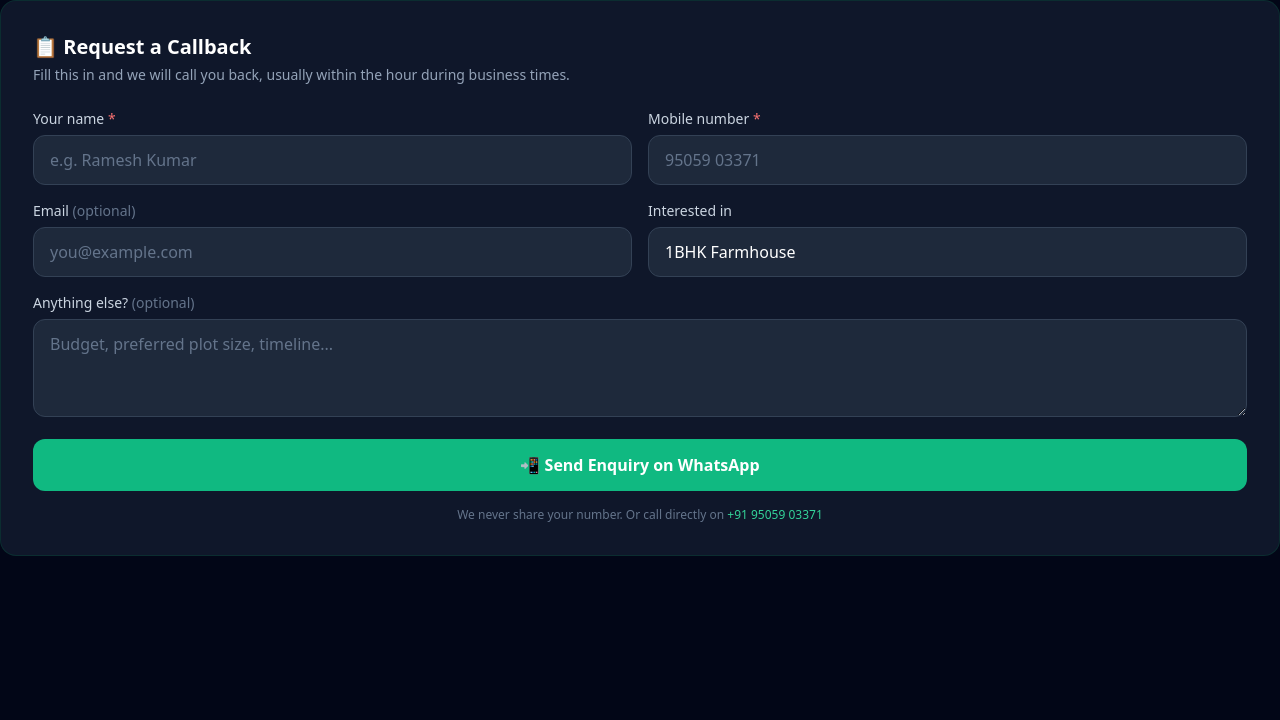
LeadForm › rejects a malformed phone number
In the field labelled "Your name *": (332, 160) top-left (33, 135), bottom-right (632, 185), type "Ramesh"
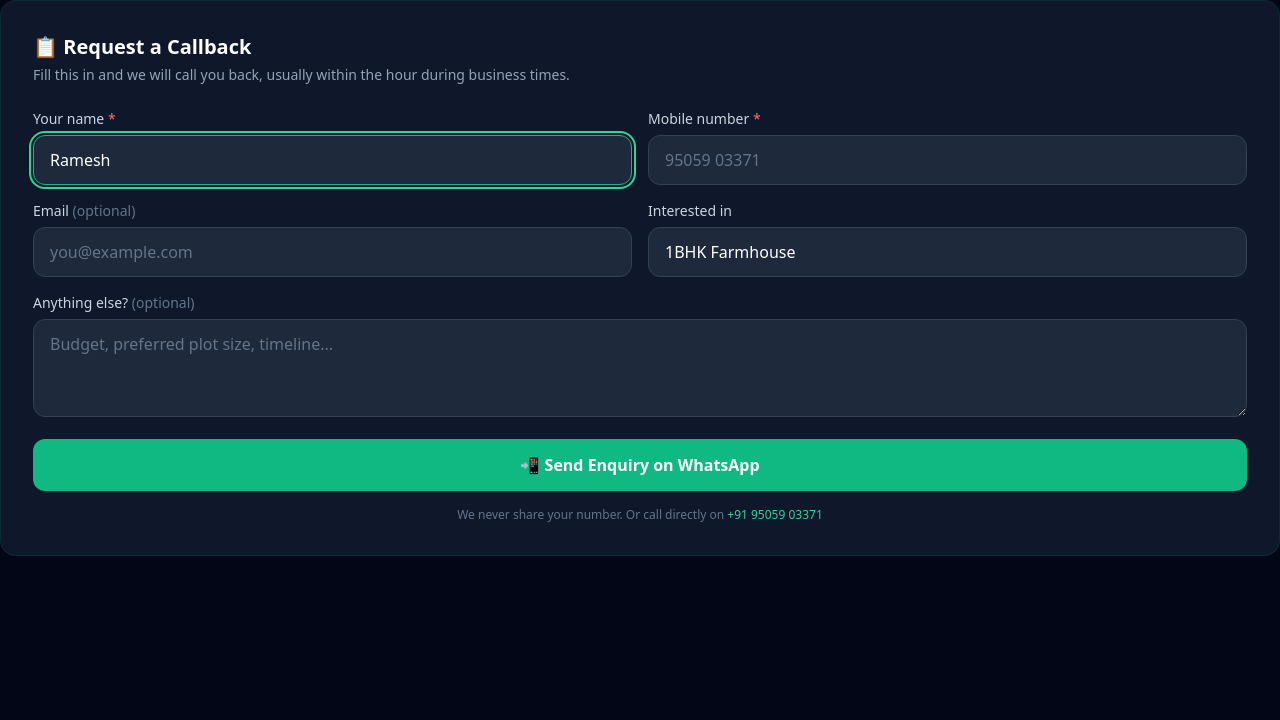
In the field labelled "Mobile number *": (948, 160) top-left (648, 135), bottom-right (1247, 185), type "12345"
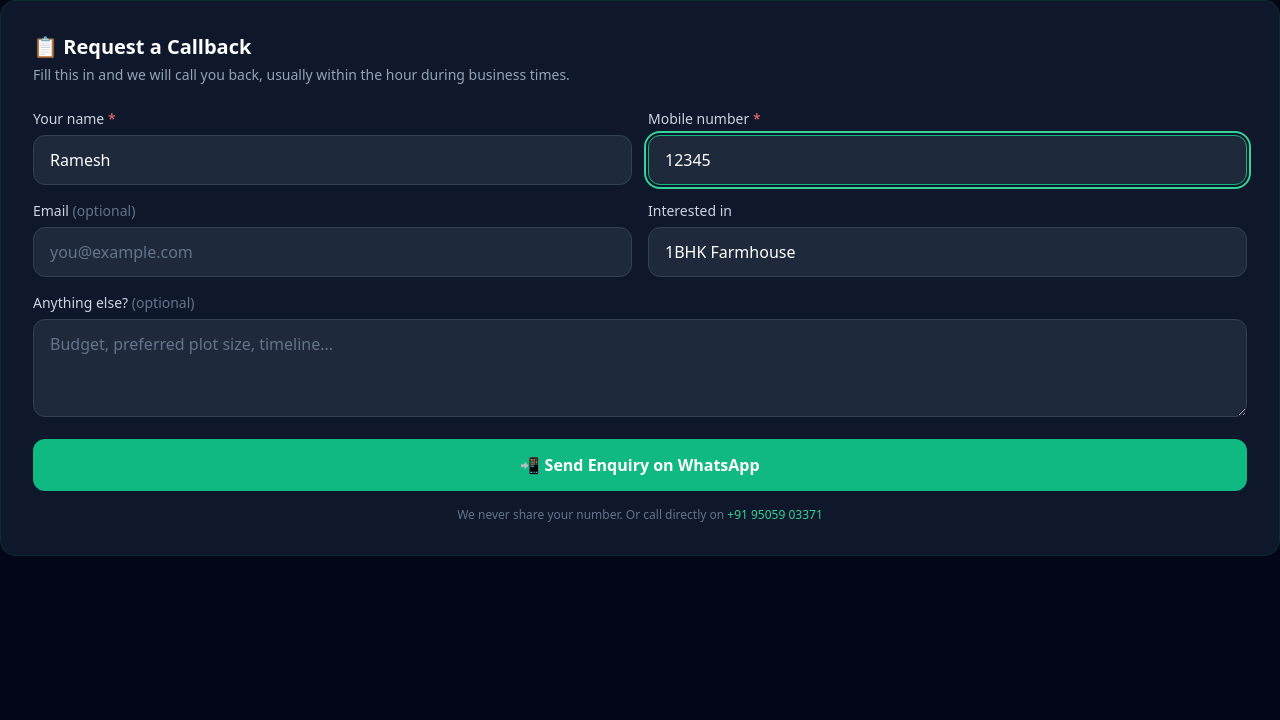
Click the button "📲 Send Enquiry on WhatsApp": (640, 465) top-left (33, 439), bottom-right (1247, 491)
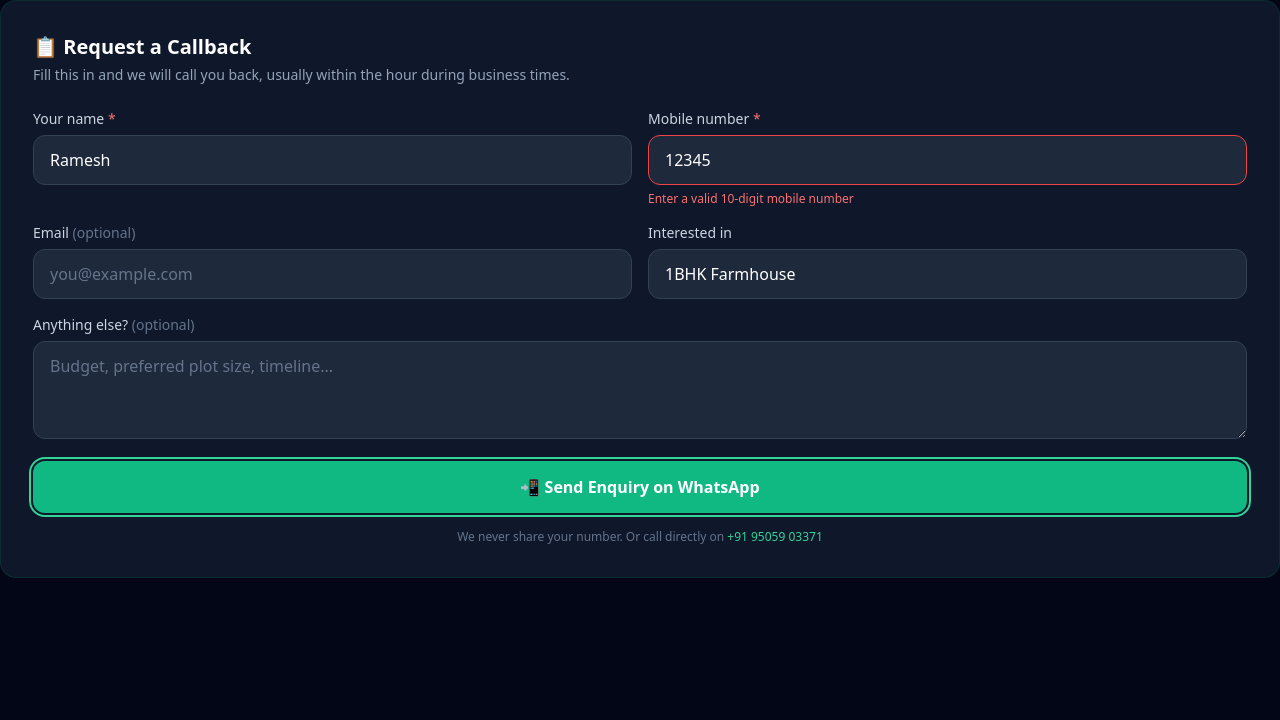
Expected: the text "Enter a valid 10-digit mobile number" is shown, top-left (648, 190), bottom-right (854, 207)
